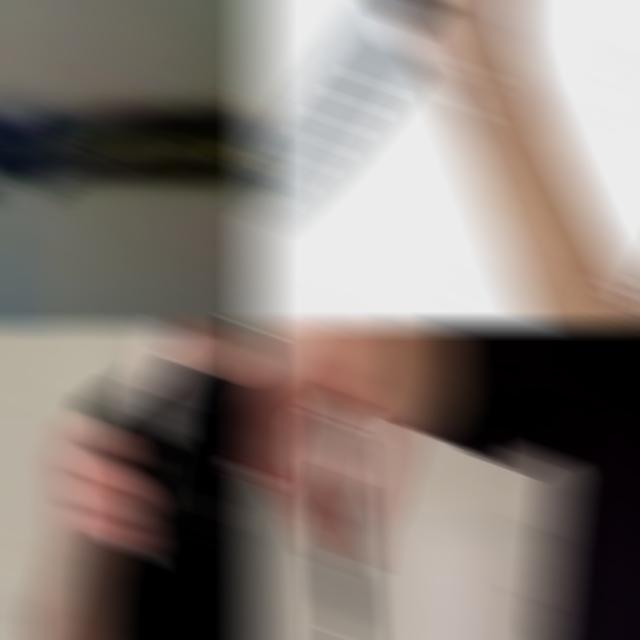Knife: (246, 0, 435, 228), (0, 90, 266, 200)
Knife_Handle: (246, 0, 591, 267), (246, 322, 415, 640), (55, 322, 246, 572)
